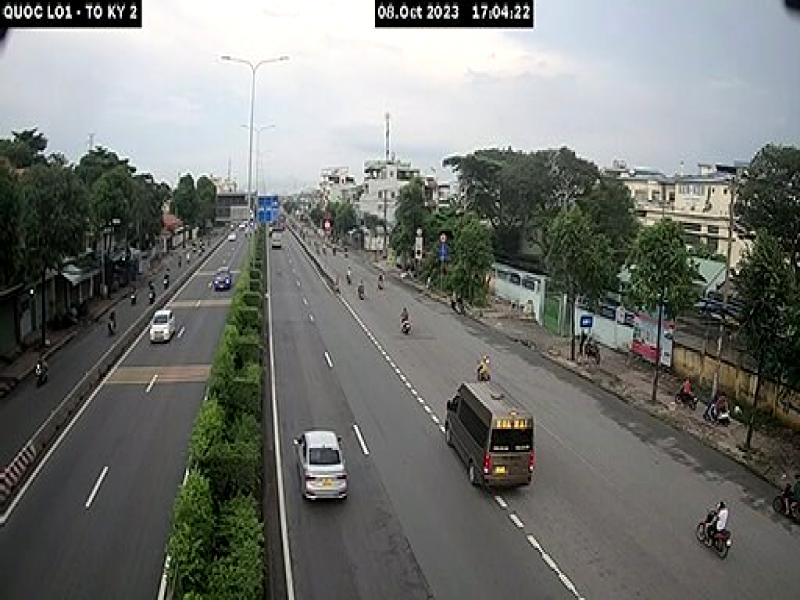car: (444, 378, 539, 499), (290, 418, 351, 514), (145, 303, 177, 363), (213, 265, 237, 307)
motorcycle: (696, 500, 736, 565)
